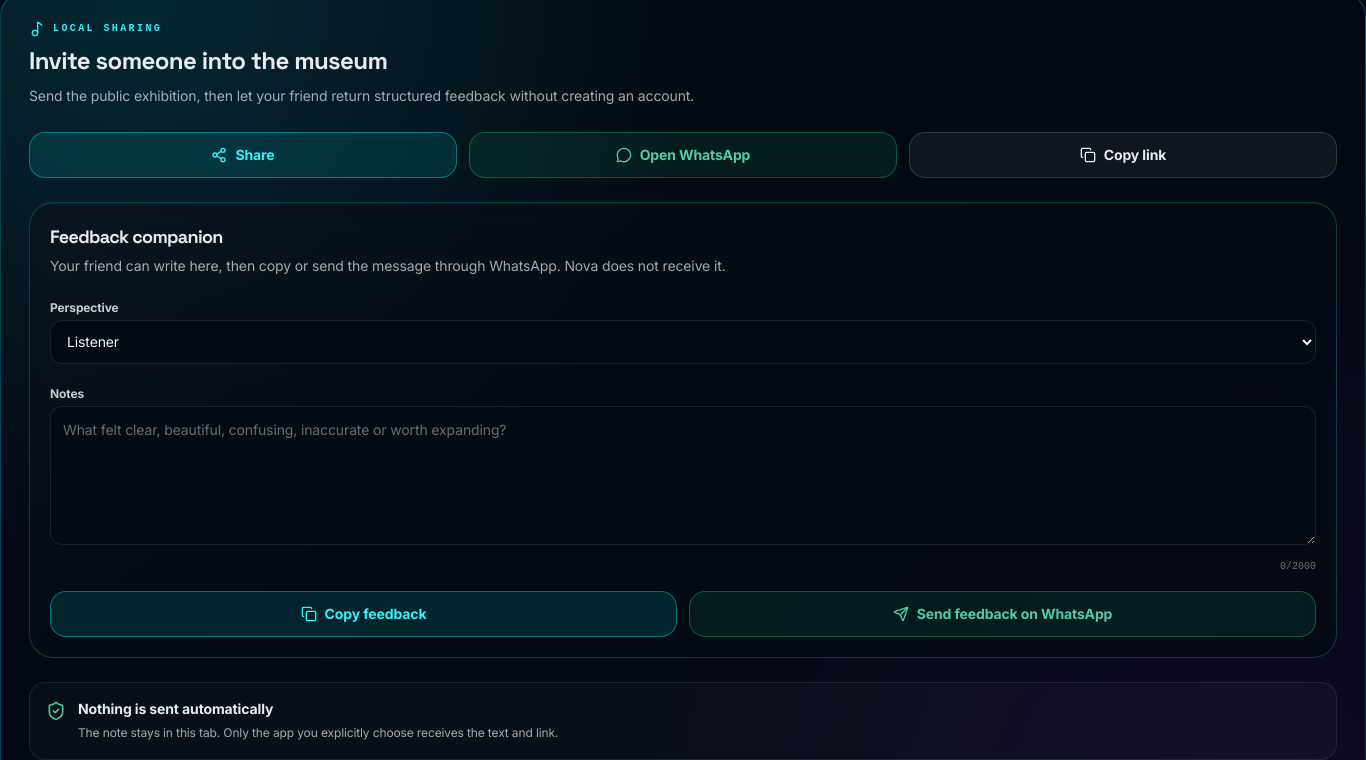
ShareFeedbackHub › uses the native share sheet when the browser exposes it
Click the button "Share". click: x=243, y=155
box: [29,132,457,178]
(page scrolled)
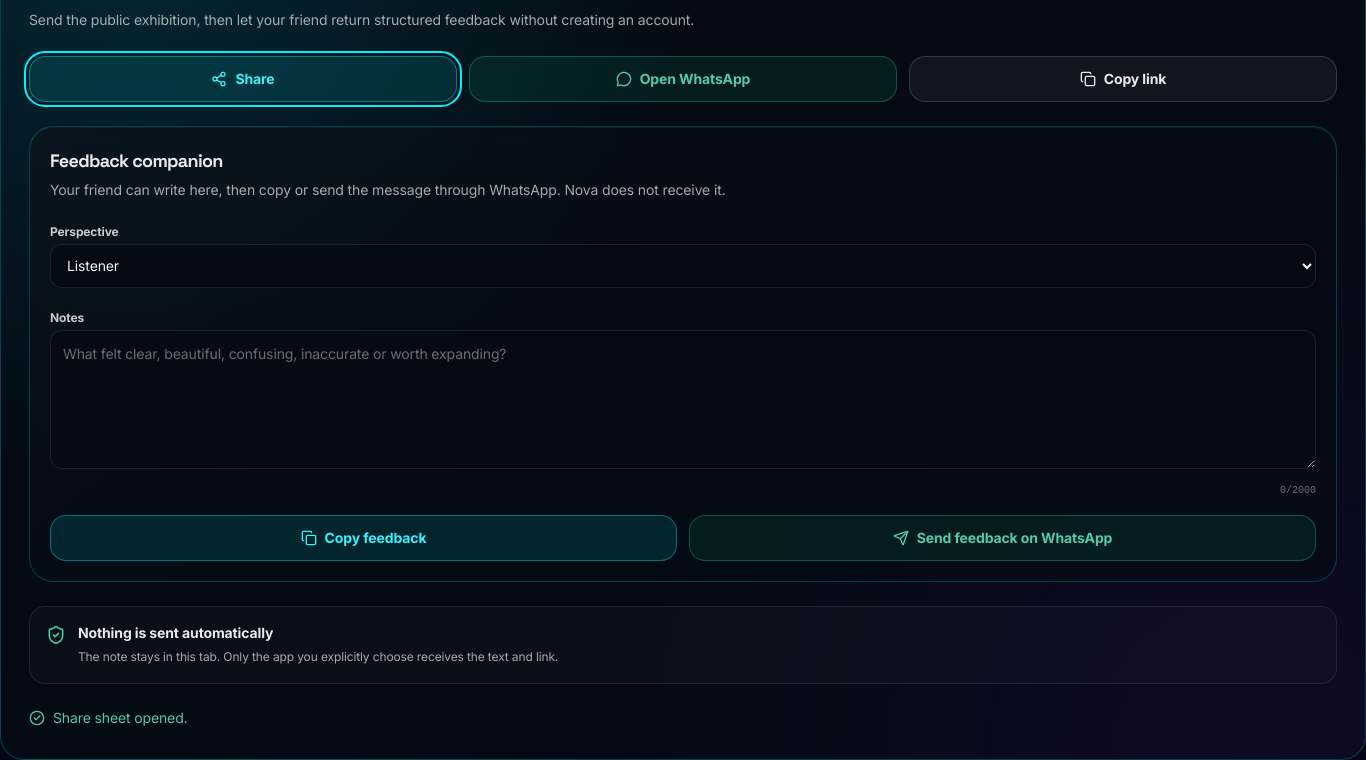
expect the message reads "Share sheet opened.": met, box [53,709,188,726]
